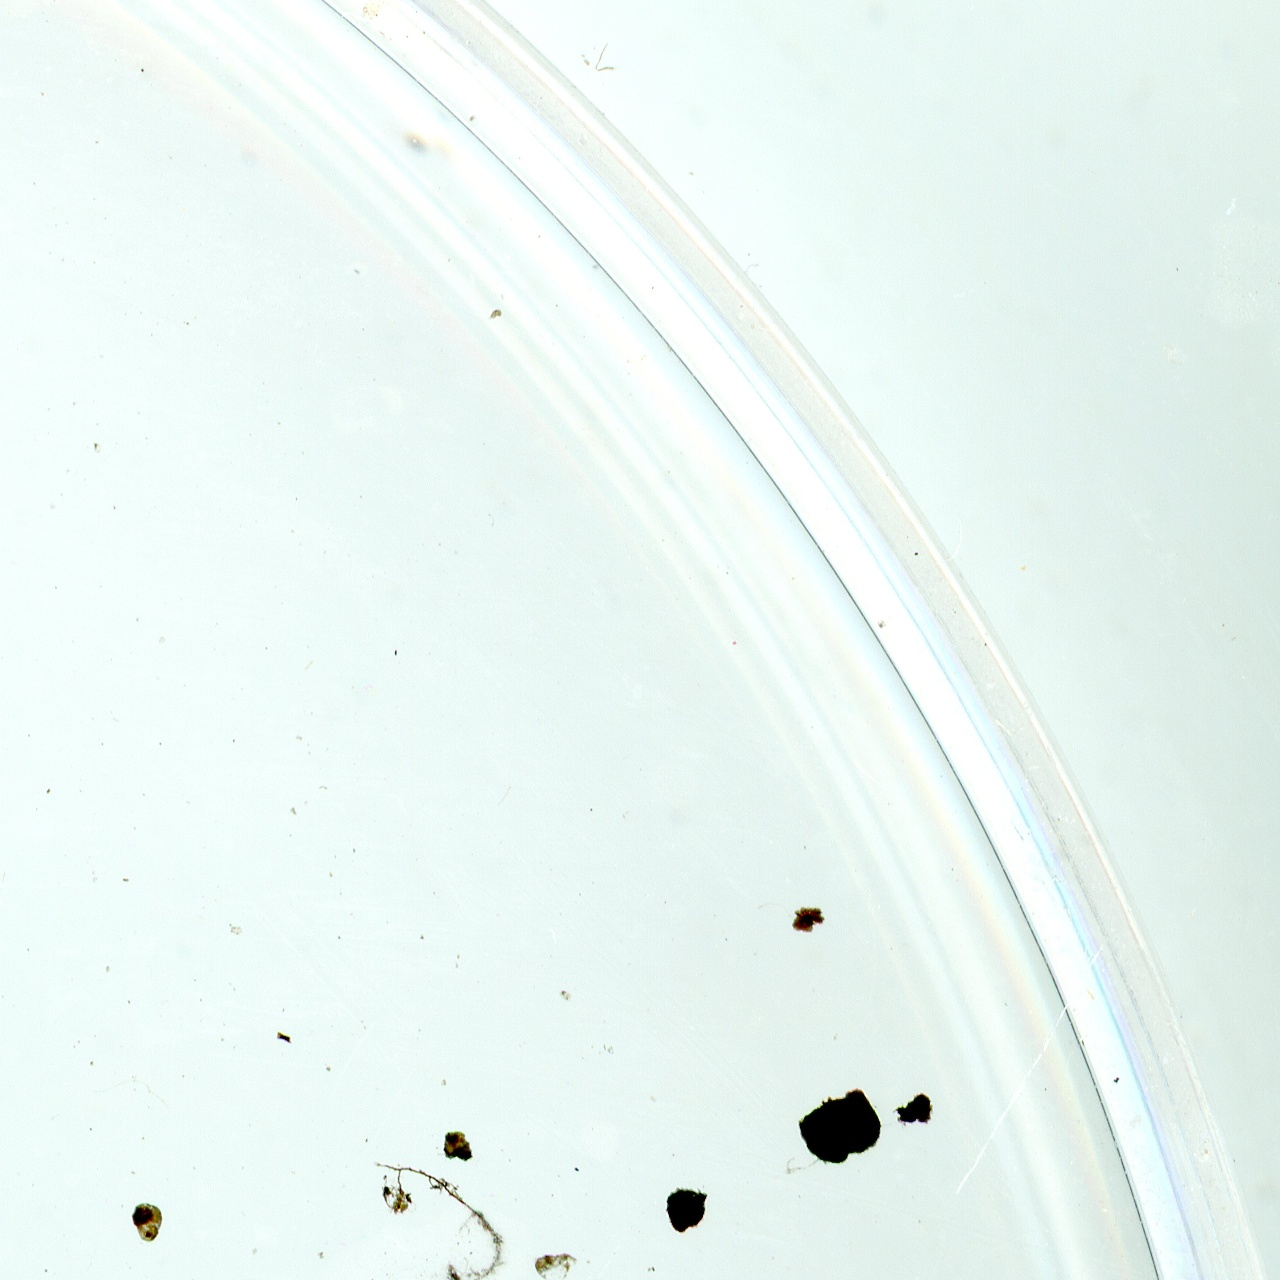arthropod: (131, 1197, 163, 1244)
